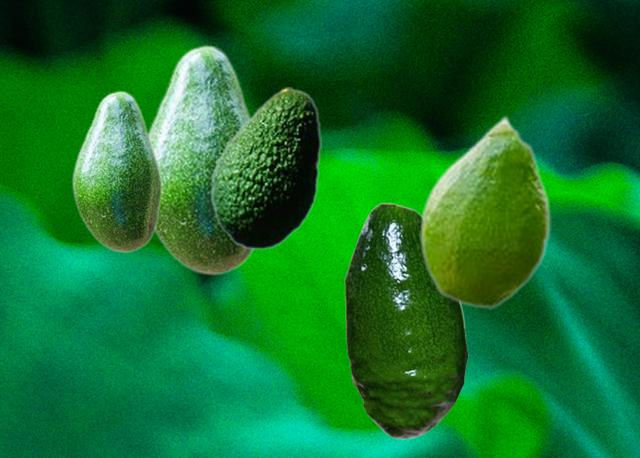avocado: (344, 202, 467, 438), (419, 114, 550, 308), (148, 44, 255, 275), (210, 87, 320, 249), (71, 90, 161, 252)
